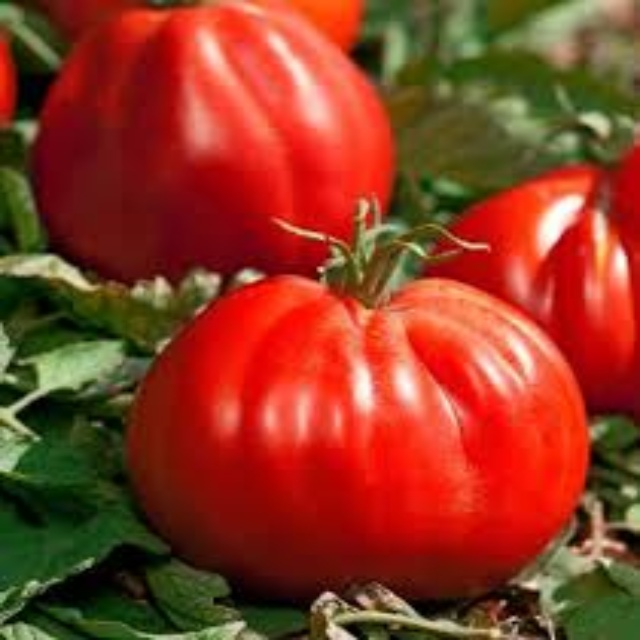tomato: (143, 259, 603, 582), (49, 16, 403, 294), (425, 163, 639, 404)
